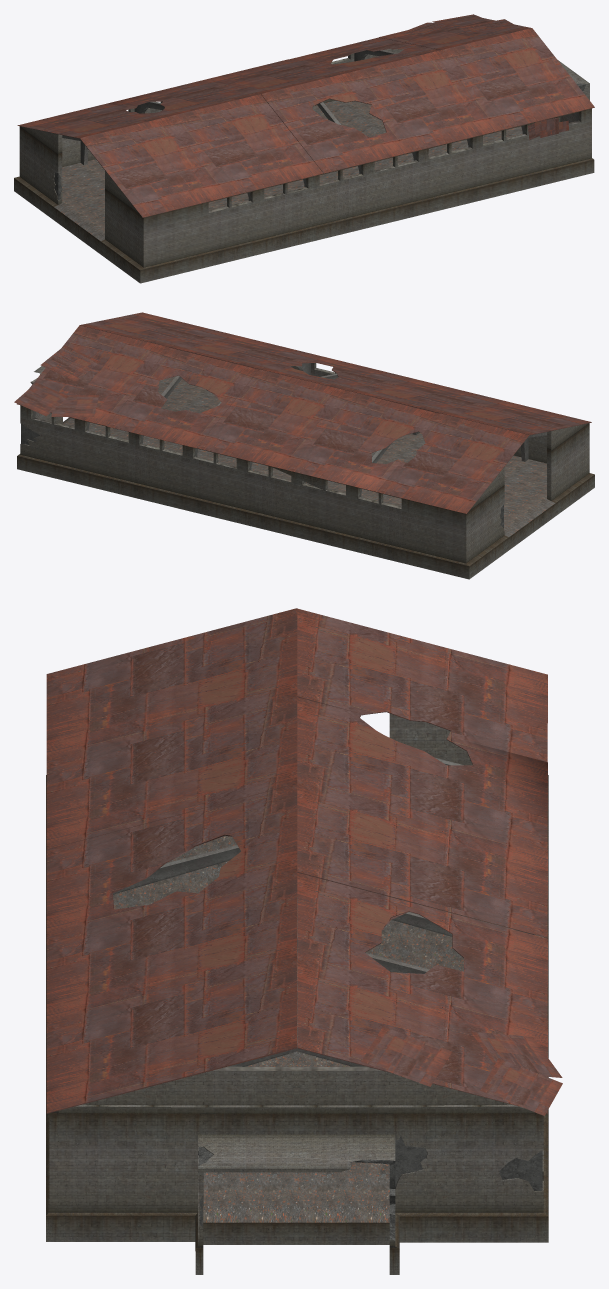
Rendered from Build.obj.
The picture shows the model from 3 angles, top to bottom: view 1: azimuth 30°, elevation 25°; view 2: azimuth 150°, elevation 25°; view 3: azimuth 270°, elevation 25°; orthographic projection. The views are drawn at different scales.
Visible parts, largest first — view 1: Box011, Box001, Object001, Box020; view 2: Box011, Box001, Object001, Box020; view 3: Box011, Box001, Object001, Box020, Object003.
Part boxes in pixels (x1,y1,x2,y2): Box011: (17,14,594,217); Box001: (14,49,594,283); Object001: (54,100,540,241); Box020: (62,50,578,200); Box011: (14,312,591,513); Box001: (17,362,594,579); Object001: (63,376,555,536); Box020: (33,363,546,496); Box011: (46,608,562,1115); Box001: (46,713,548,1274); Object001: (113,835,514,1222); Box020: (113,757,534,1066); Object003: (199,1136,542,1226).
Bounding box in the file's own units: 27.2 × 5.25 × 12.55.
